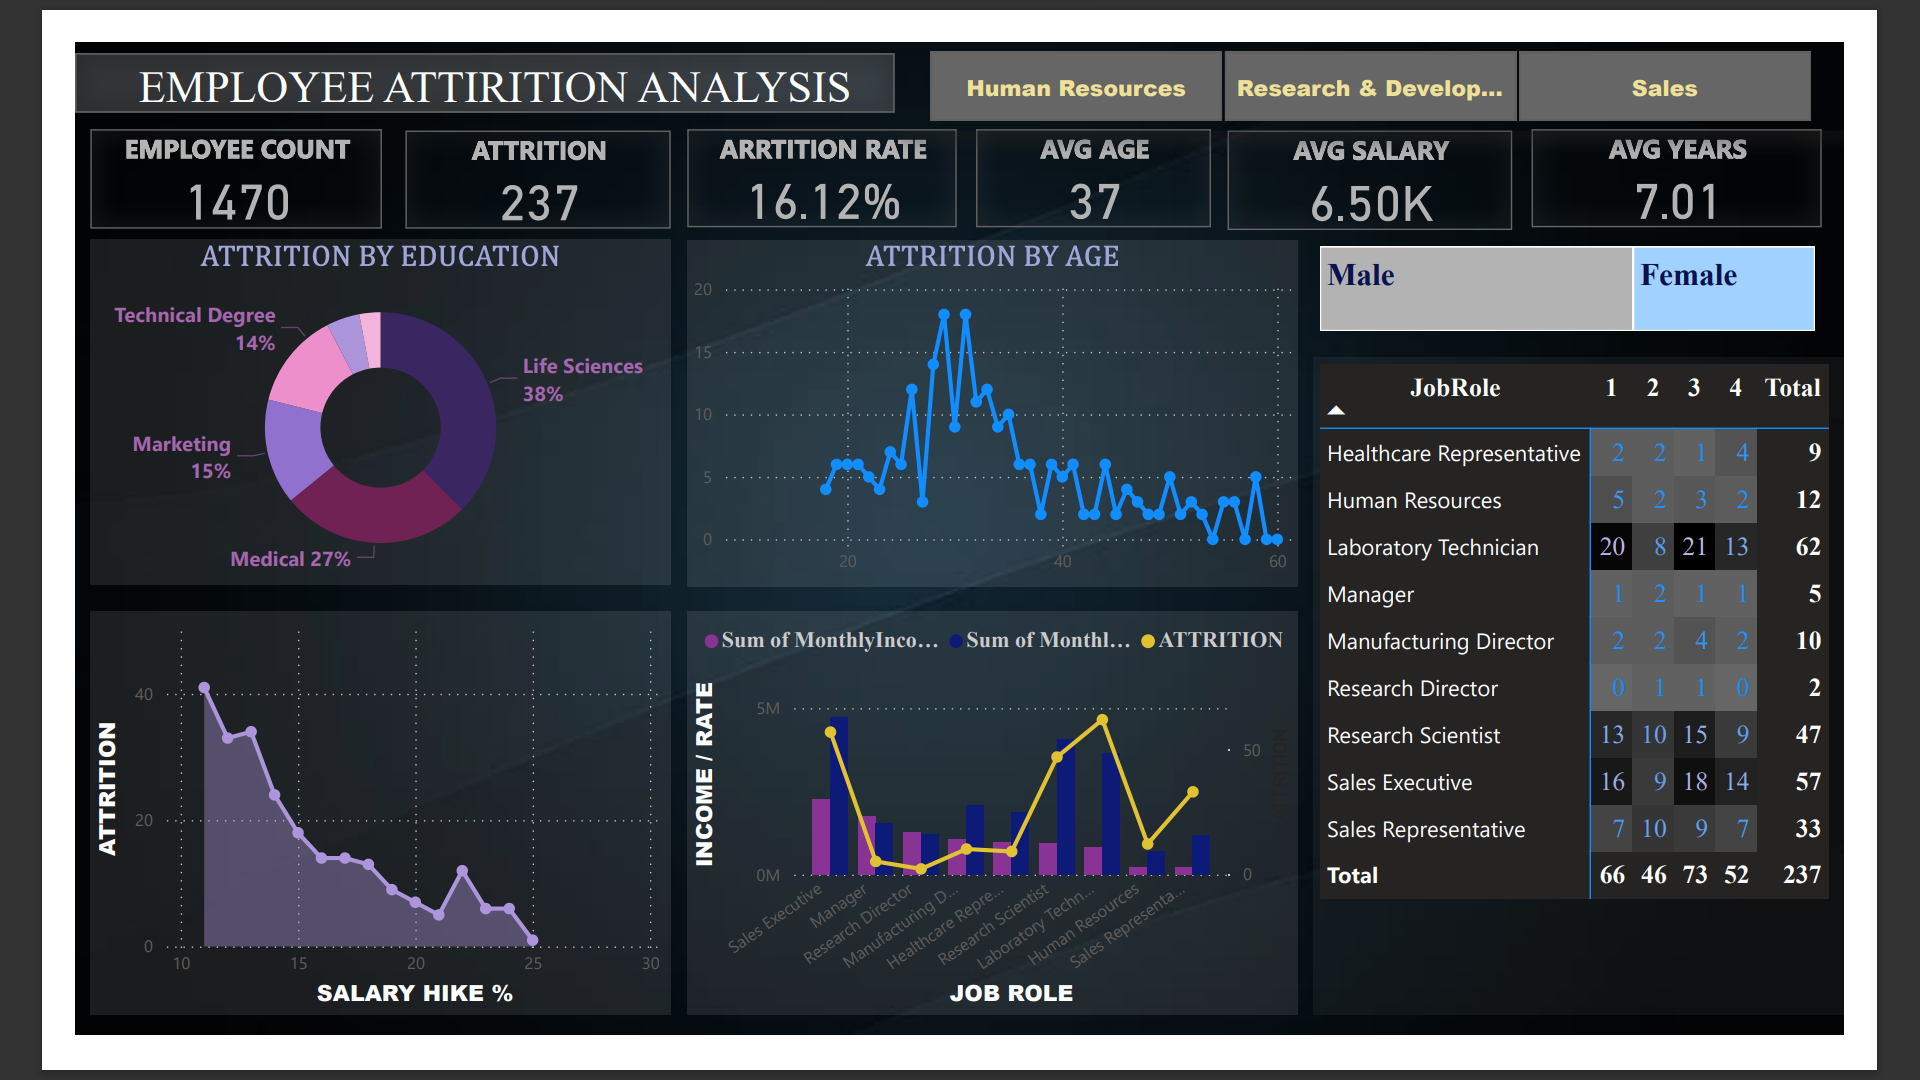

This screenshot's page, from the dashboard's own definition file:
{"tool":"powerbi","page":{"name":"Page 1","canvas":[1280,720],"ordinal":0},"visuals":[{"type":"textbox","box":[0,8.2,592.8,42.5],"z":0},{"type":"card","title":"EMPLOYEE COUNT","fields":{"Values":["Sum(HR-Employee-Attrition.EmployeeCount)"]},"box":[10.9,62.7,211.1,72.4],"z":1000},{"type":"card","title":"ATTRITION","fields":{"Values":["Sum(HR-Employee-Attrition.AttritionCount)"]},"box":[238.8,63.9,191.8,71.2],"z":2000},{"type":"card","title":"ARRTITION RATE","fields":{"Values":["HR-Employee-Attrition.attritiorate"]},"box":[443.2,63.1,194.9,71.4],"z":3000},{"type":"card","title":"AVG AGE","fields":{"Values":["Avg(HR-Employee-Attrition.Age)"]},"box":[651.8,63.1,170.2,71.4],"z":4000},{"type":"card","title":"AVG SALARY","fields":{"Values":["Avg(HR-Employee-Attrition.MonthlyIncome)"]},"box":[834.3,64.5,205.8,71.4],"z":5000},{"type":"card","title":"AVG YEARS","fields":{"Values":["Avg(HR-Employee-Attrition.YearsAtCompany)"]},"box":[1053.9,63.1,209.9,71.4],"z":6000},{"type":"donutChart","title":"ATTRITION BY EDUCATION","fields":{"Category":["HR-Employee-Attrition.EducationField"],"Y":["Sum(HR-Employee-Attrition.AttritionCount)"]},"box":[10.9,143.2,419.9,250],"z":7000},{"type":"lineChart","title":"ATTRITION BY AGE","fields":{"Category":["HR-Employee-Attrition.Age"],"Y":["Sum(HR-Employee-Attrition.AttritionCount)"]},"box":[443.2,142.7,441.9,251.1],"z":8000},{"type":"pivotTable","fields":{"Rows":["HR-Employee-Attrition.JobRole"],"Columns":["HR-Employee-Attrition.JobSatisfaction"],"Values":["Sum(HR-Employee-Attrition.AttritionCount)"]},"box":[896.1,227.8,384.2,476.2],"z":9000},{"type":"stackedAreaChart","title":"ATTRITION BY AGE","fields":{"Y":["Sum(HR-Employee-Attrition.AttritionCount)"],"Category":["HR-Employee-Attrition.PercentSalaryHike"]},"box":[11,411.7,419.9,292.3],"z":10000},{"type":"lineClusteredColumnComboChart","title":"ATTRITION BY AGE","fields":{"Category":["HR-Employee-Attrition.JobRole"],"Y2":["Sum(HR-Employee-Attrition.AttritionCount)"],"Y":["Sum(HR-Employee-Attrition.MonthlyIncome)","Sum(HR-Employee-Attrition.MonthlyRate)"]},"box":[443.2,411.7,441.9,292.3],"z":11000},{"type":"treemap","title":"ATTRITION BY AGE","fields":{"Values":["Sum(HR-Employee-Attrition.AttritionCount)"],"Group":["HR-Employee-Attrition.Gender"]},"box":[896.1,142.7,367.8,71.4],"z":12000},{"type":"slicer","fields":{"Values":["HR-Employee-Attrition.Department"]},"box":[592.8,0,687.5,64.5],"z":13000}]}

Visuals, with their boxes in screenshot pixels (x1, y1, x2, y2), scaled from the page's 1280x720 canvas onto the 1920x1080 screenshot:
textbox: detection(0, 12, 889, 76)
"EMPLOYEE COUNT" card: detection(16, 94, 333, 203)
"ATTRITION" card: detection(358, 96, 646, 203)
"ARRTITION RATE" card: detection(665, 95, 957, 202)
"AVG AGE" card: detection(978, 95, 1233, 202)
"AVG SALARY" card: detection(1251, 97, 1560, 204)
"AVG YEARS" card: detection(1581, 95, 1896, 202)
"ATTRITION BY EDUCATION" donutChart: detection(16, 215, 646, 590)
"ATTRITION BY AGE" lineChart: detection(665, 214, 1328, 591)
pivotTable - HR-Employee-Attrition.JobRole x HR-Employee-Attrition.JobSatisfaction: detection(1344, 342, 1919, 1056)
"ATTRITION BY AGE" stackedAreaChart: detection(16, 618, 646, 1056)
"ATTRITION BY AGE" lineClusteredColumnComboChart: detection(665, 618, 1328, 1056)
"ATTRITION BY AGE" treemap: detection(1344, 214, 1896, 321)
slicer - HR-Employee-Attrition.Department: detection(889, 0, 1919, 97)
